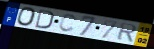7: (80, 15, 98, 38), (102, 19, 119, 39)
C: (58, 13, 78, 33)
D: (34, 9, 55, 30)
O: (17, 7, 38, 27)
R: (116, 22, 138, 43)
